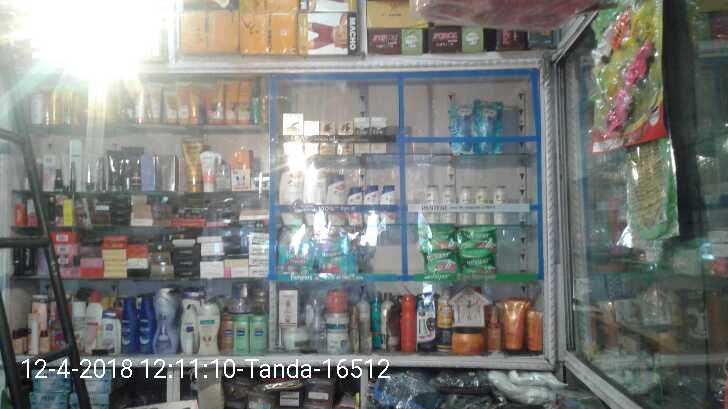venus: (473, 99, 504, 150), (448, 101, 473, 151)
